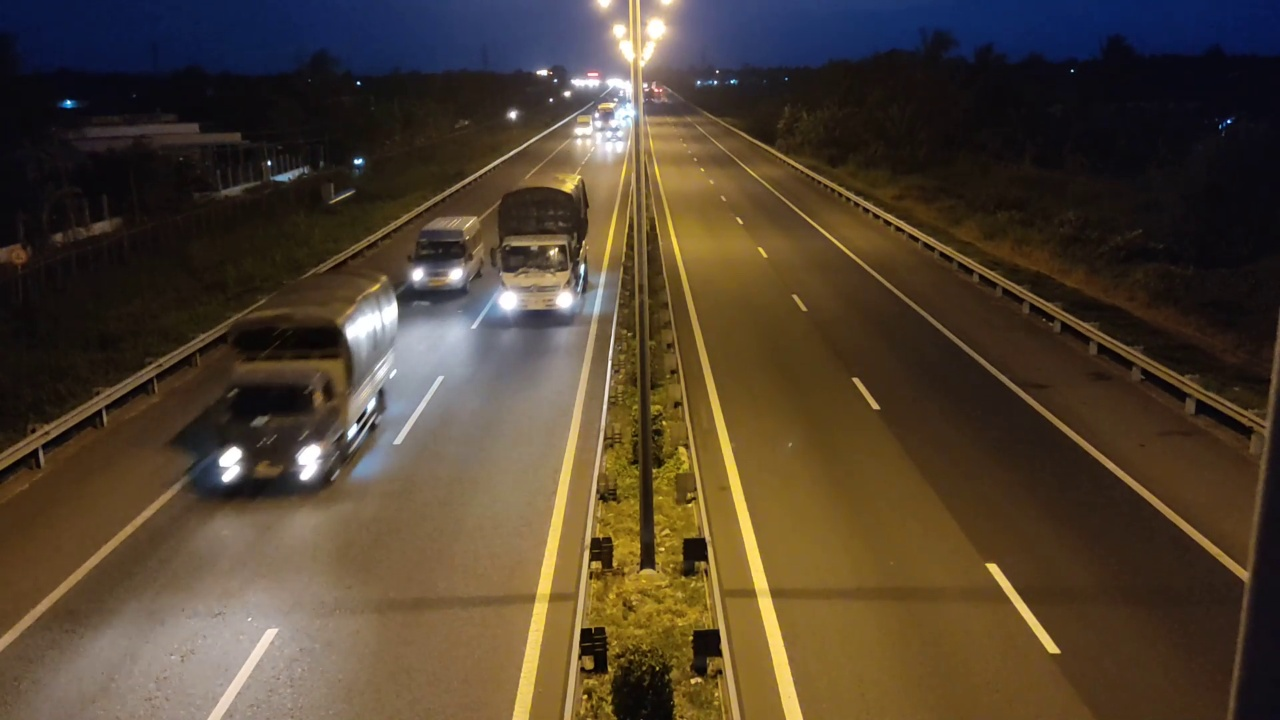car: (408, 205, 486, 298)
truck: (209, 266, 402, 508), (494, 171, 590, 323)
